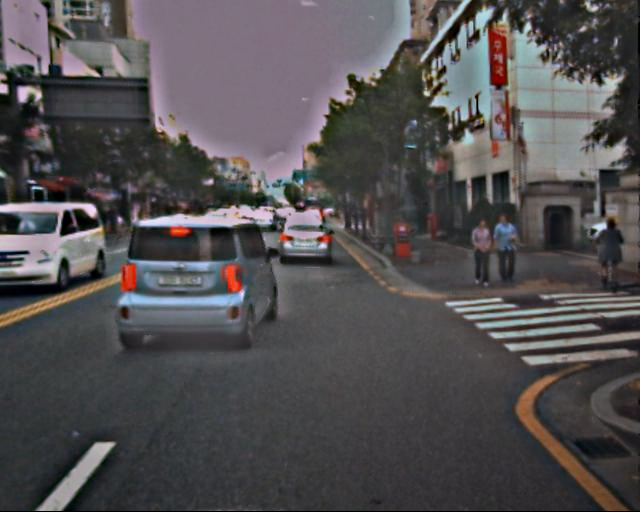person: (593, 215, 625, 292), (491, 211, 521, 284), (468, 220, 496, 289)
